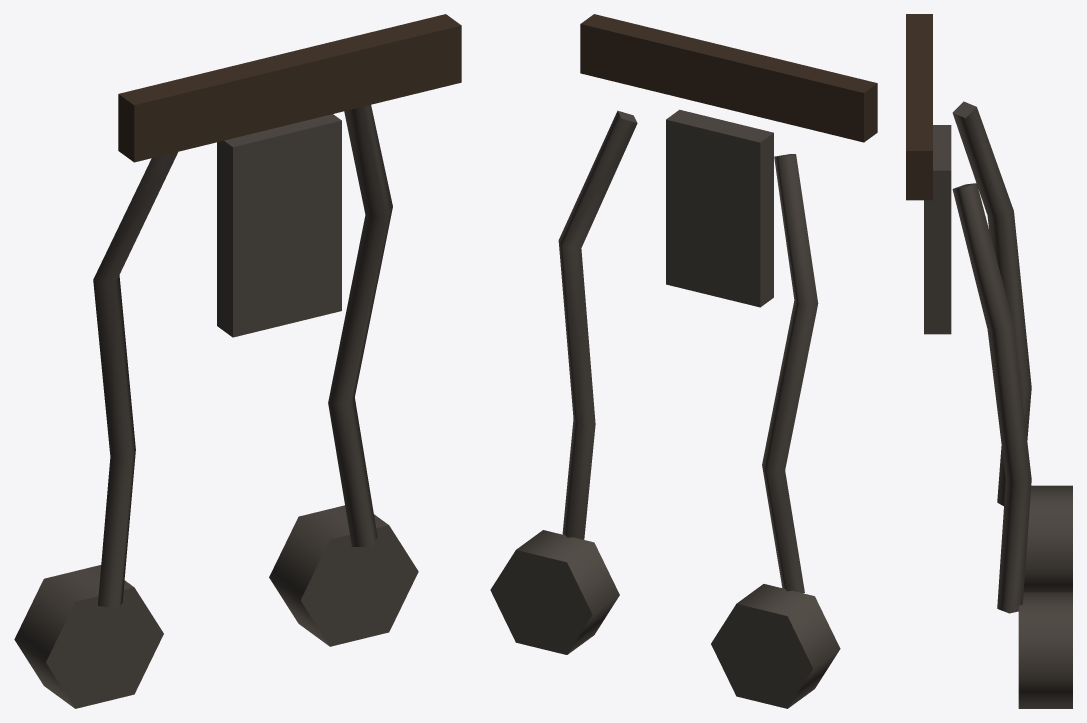
The picture shows the model from 3 angles, left to right: view 1: azimuth 30°, elevation 25°; view 2: azimuth 150°, elevation 25°; view 3: azimuth 270°, elevation 25°; orthographic projection. The views are drawn at different scales.
Parts seen in each view (by area): view 1: raider_gear_shackles; view 2: raider_gear_shackles; view 3: raider_gear_shackles.
Boxes of the visible parts, x1,y1,x2,y2 form: raider_gear_shackles: [14, 14, 461, 708]; raider_gear_shackles: [490, 14, 877, 708]; raider_gear_shackles: [906, 14, 1072, 708].
Size of the model in its own units: 0.41 by 0.6863 by 0.185.
